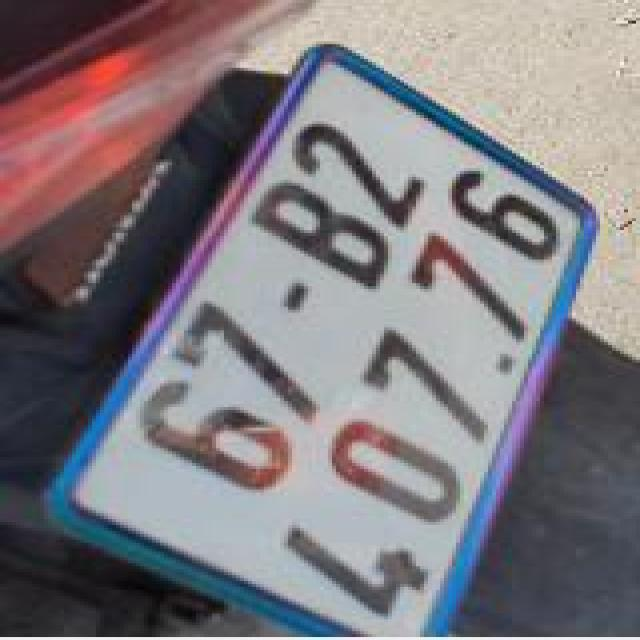0: (311, 404, 488, 542)
2: (265, 98, 448, 245)
4: (256, 488, 453, 636)
6: (113, 367, 318, 509), (431, 159, 585, 282)
7: (151, 282, 350, 450), (340, 315, 515, 470), (393, 216, 563, 367)
B: (241, 166, 415, 310)
